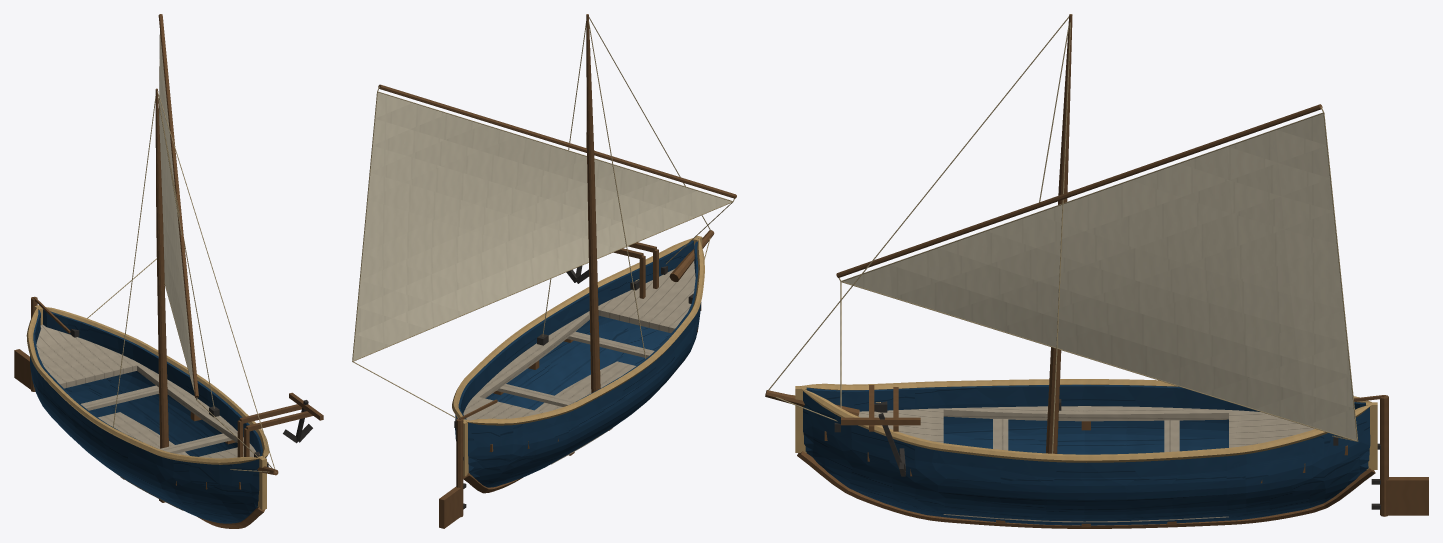
3 renders of one model, left to right at view 1: azimuth 30°, elevation 25°; view 2: azimuth 150°, elevation 25°; view 3: azimuth 270°, elevation 25°, orthographic. The views are drawn at different scales.
Visible parts, largest first — view 1: lod2_hull_shell_starboard, lod2_hull_shell_port, lod2_main_lateen_00, lod2_deck_stern, lod2_main, lod2_gunwale_starboard, lod2_main_lateen_00_lateen_yard, lod2_gunwale_port, lod2_deck_starboard_walkway, lod2_cockpit_sole, lod2_thwart_0, lod2_thwart_1 (+8 smaller); view 2: lod2_main_lateen_00, lod2_hull_shell_starboard, lod2_hull_shell_port, lod2_deck_bow, lod2_main, lod2_gunwale_starboard, lod2_main_lateen_00_lateen_yard, lod2_deck_starboard_walkway, lod2_gunwale_port, lod2_cockpit_sole, lod2_deck_stern, lod2_rudder_blade (+7 smaller); view 3: lod2_main_lateen_00, lod2_hull_shell_port, lod2_hull_shell_starboard, lod2_gunwale_port, lod2_deck_port_walkway, lod2_keel, lod2_main_lateen_00_lateen_yard, lod2_main, lod2_gunwale_starboard, lod2_deck_stern, lod2_rudder_blade, lod2_deck_bow (+5 smaller).
Part boxes in pixels (<box>): lod2_hull_shell_starboard: <box>30,310,259,523</box>; lod2_hull_shell_port: <box>43,309,265,457</box>; lod2_main_lateen_00: <box>159,35,194,389</box>; lod2_deck_stern: <box>36,324,140,388</box>; lod2_main: <box>155,88,168,448</box>; lod2_gunwale_starboard: <box>26,307,260,464</box>; lod2_main_lateen_00_lateen_yard: <box>158,14,198,397</box>; lod2_gunwale_port: <box>46,307,269,457</box>; lod2_deck_starboard_walkway: <box>137,364,250,445</box>; lod2_cockpit_sole: <box>98,412,189,510</box>; lod2_thwart_0: <box>81,385,159,410</box>; lod2_thwart_1: <box>159,433,231,453</box>; lod2_main_lateen_00: <box>353,92,731,360</box>; lod2_hull_shell_starboard: <box>468,241,701,487</box>; lod2_hull_shell_port: <box>455,240,693,440</box>; lod2_deck_bow: <box>598,261,695,332</box>; lod2_main: <box>586,14,600,393</box>; lod2_gunwale_starboard: <box>466,238,704,425</box>; lod2_main_lateen_00_lateen_yard: <box>378,84,736,198</box>; lod2_deck_starboard_walkway: <box>475,311,589,398</box>; lod2_gunwale_port: <box>452,237,695,420</box>; lod2_cockpit_sole: <box>535,361,635,464</box>; lod2_deck_stern: <box>463,396,542,420</box>; lod2_rudder_blade: <box>439,486,461,528</box>; lod2_main_lateen_00: <box>843,113,1356,440</box>; lod2_hull_shell_port: <box>803,391,1370,525</box>; lod2_hull_shell_starboard: <box>806,384,1365,454</box>; lod2_gunwale_port: <box>801,388,1371,462</box>; lod2_deck_port_walkway: <box>943,406,1228,421</box>; lod2_keel: <box>797,451,1375,528</box>; lod2_main_lateen_00_lateen_yard: <box>836,104,1322,277</box>; lod2_main: <box>1046,14,1072,453</box>; lod2_gunwale_starboard: <box>800,379,1371,402</box>; lod2_deck_stern: <box>1229,410,1314,447</box>; lod2_rudder_blade: <box>1386,477,1428,515</box>; lod2_deck_bow: <box>858,408,943,442</box>.
Bounding box in the file's own units: 4.12 × 8.95 × 10.46.
7 materials, 7 textured.
